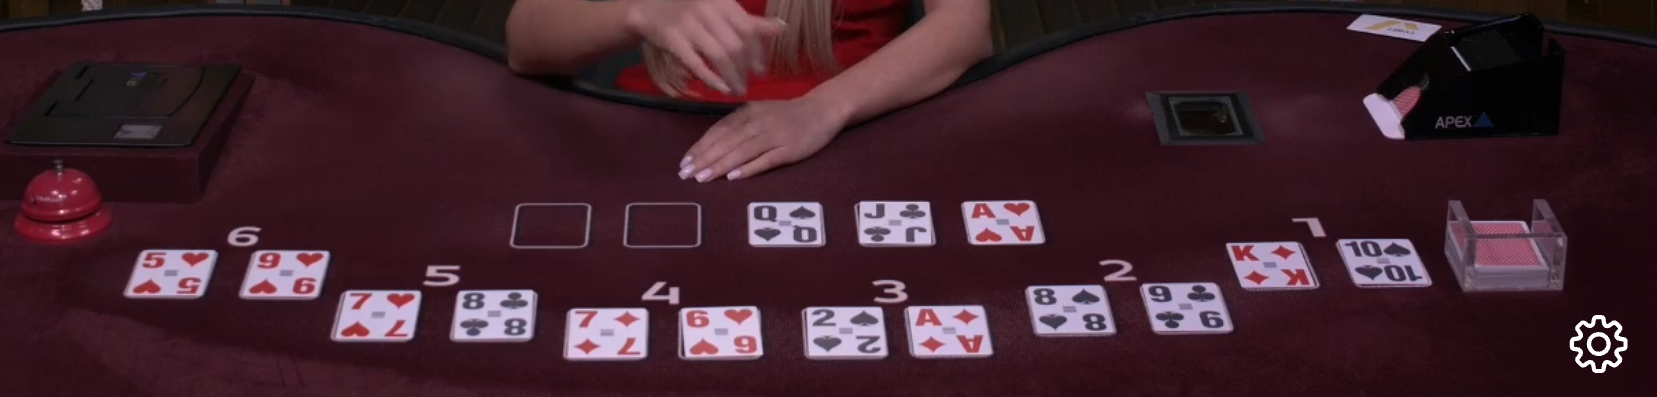10s: (1330, 232, 1441, 292)
2s: (801, 301, 889, 366)
5h: (122, 241, 211, 300)
6h: (678, 299, 770, 365)
7d: (565, 299, 657, 365)
7h: (333, 285, 422, 345)
8c: (451, 284, 543, 345)
8s: (1021, 282, 1120, 342)
9c: (1142, 277, 1239, 341)
9h: (242, 243, 332, 302)
asd: (904, 298, 1000, 358)
ash: (958, 196, 1051, 249)
jc: (849, 196, 938, 251)
kd: (1228, 238, 1330, 296)
qs: (742, 199, 827, 248)
